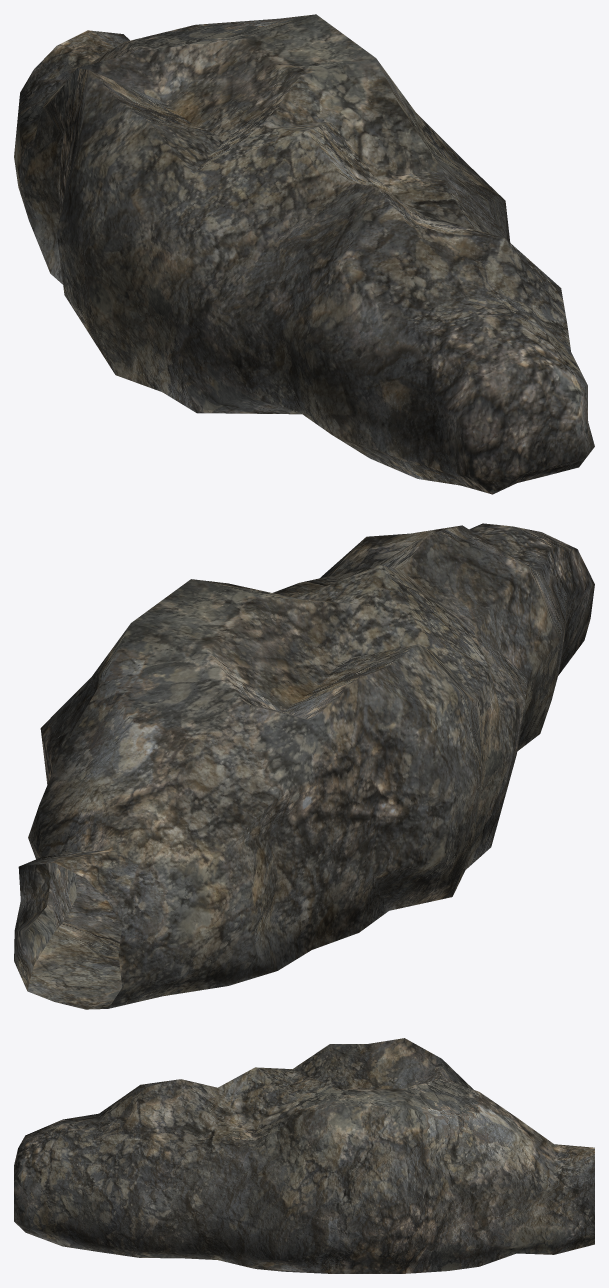
The model's file is cave_piece_12.glb.
3 views of the same model, one above another, from view 1: azimuth 30°, elevation 25°; view 2: azimuth 150°, elevation 25°; view 3: azimuth 270°, elevation 25° (orthographic). The views are drawn at different scales.
Parts seen in each view (by area): view 1: mine_12_mine_0; view 2: mine_12_mine_0; view 3: mine_12_mine_0.
Boxes of the visible parts, x1,y1,x2,y2 form: mine_12_mine_0: (14, 14, 594, 494); mine_12_mine_0: (14, 523, 594, 1009); mine_12_mine_0: (14, 1038, 594, 1273).
Size of the model in its own units: 12.72 by 8.48 by 26.39.
Materials: 1 (1 with a texture image).
